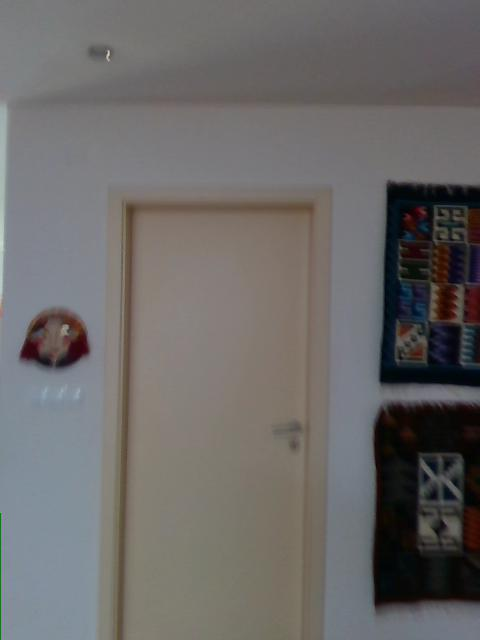door: (98, 183, 326, 639)
